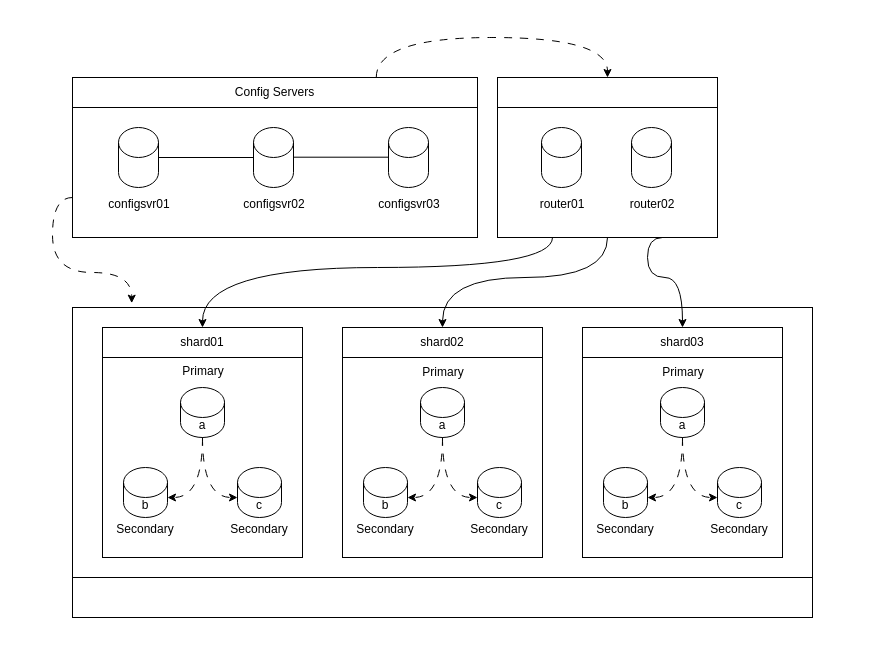
Image size: 884x654. Some labels were removed from this diagram. Here are the shapes that lost their labels. From the top down, the centre of each, then its label:
At (x=607, y=92): "Routers".
At (x=442, y=597): "Replica Sets".
